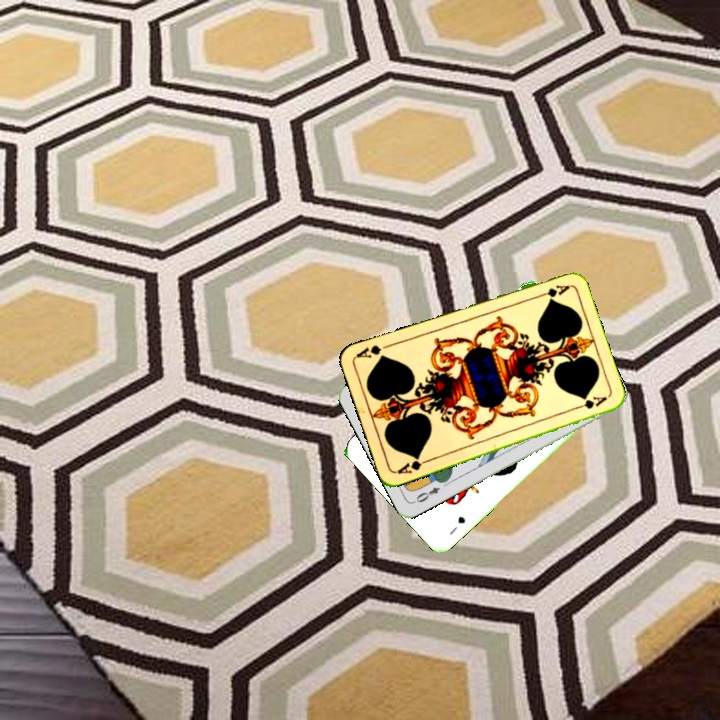EO: (412, 483, 443, 505)
GA: (393, 452, 432, 477), (532, 281, 572, 301)
GU: (445, 512, 468, 537)
